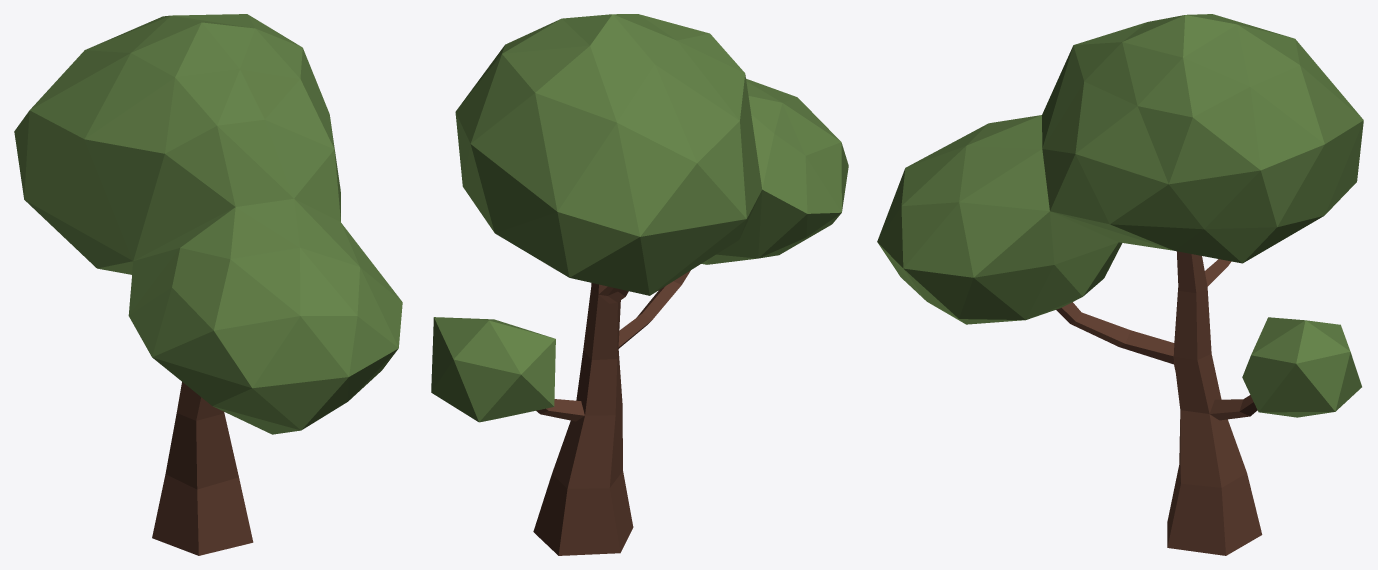
File: PlantH-1.fbx
3 views of the same model, side by side, from view 1: azimuth 30°, elevation 25°; view 2: azimuth 150°, elevation 25°; view 3: azimuth 270°, elevation 25° (orthographic). The views are drawn at different scales.
Visible parts, largest first — view 1: PlantH-1; view 2: PlantH-1; view 3: PlantH-1.
Part boxes in pixels (x1,y1,x2,y2): PlantH-1: [14, 14, 402, 555]; PlantH-1: [431, 14, 848, 555]; PlantH-1: [877, 14, 1363, 555].
Size of the model in its own units: 235 by 418 by 359.
